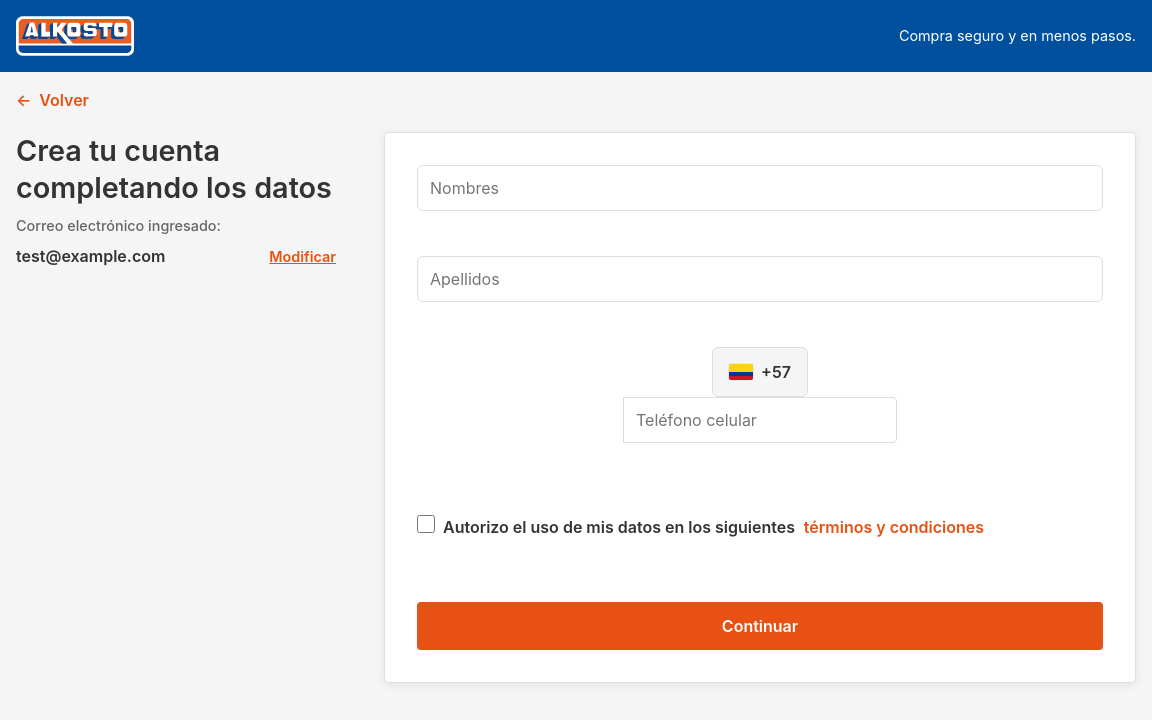
RF01 - REGISTRAR USUARIO - Pruebas Unitarias Completas › 8. Funcionalidad de Modificar Email › 8.1 Clic en "Modificar" muestra input de edición
Click the button "Modificar".
click(303, 256)  # box x1=269 y1=248 x2=336 y2=265
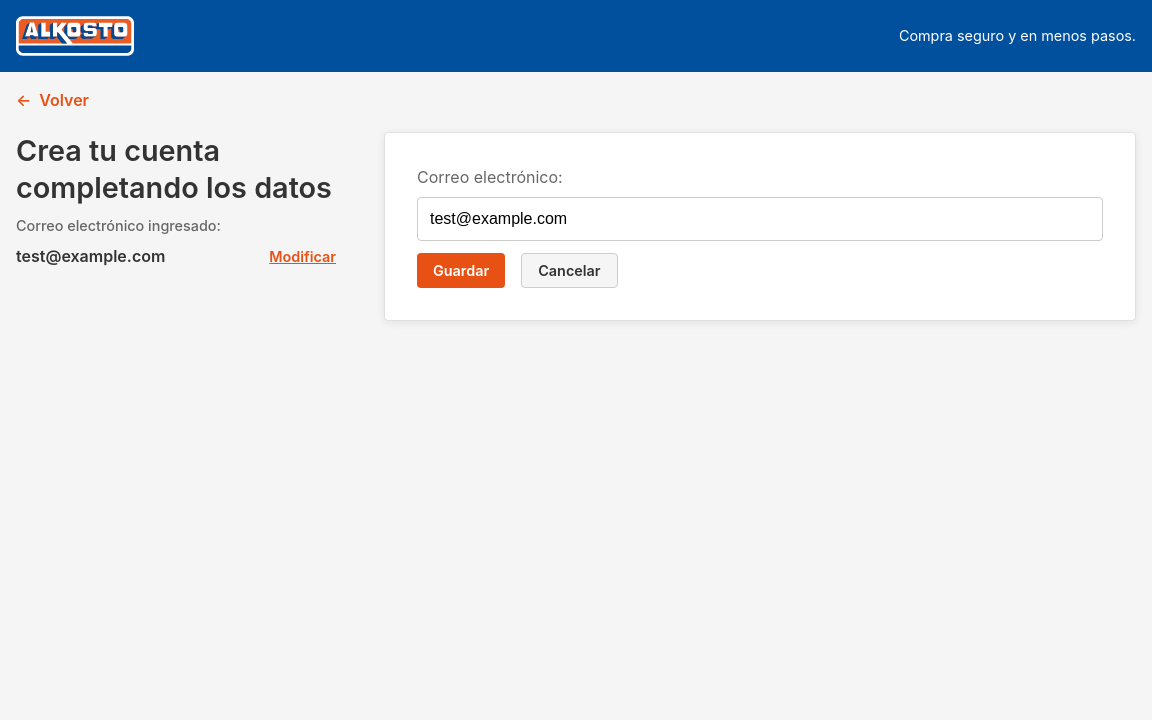
Expected: the field showing "test@example.com" is shown, x1=417 y1=197 x2=1103 y2=241
Expected: the button "Guardar" is shown, x1=417 y1=253 x2=505 y2=288
Expected: the button "Cancelar" is shown, x1=521 y1=253 x2=618 y2=288
